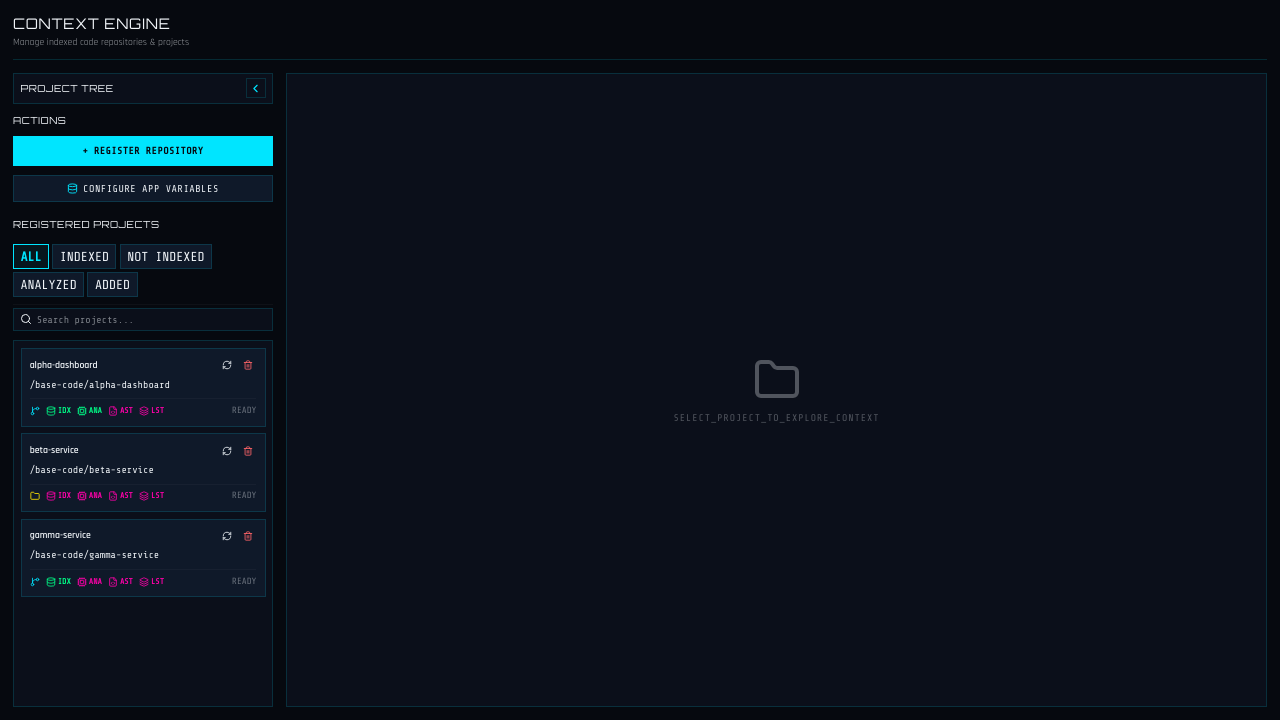
it: ContextView - FileBrowserModal Integration › filters the project tree with multiple status filters (AND logic)
expect the text "alpha-dashboard" is shown: met, box [30,359,98,372]
expect the text "beta-service" is shown: met, box [30,444,79,457]
# Filter by INDEXED (should show alpha and gamma)
Click the button "INDEXED".
click(84, 257)  # box [52,244,116,269]
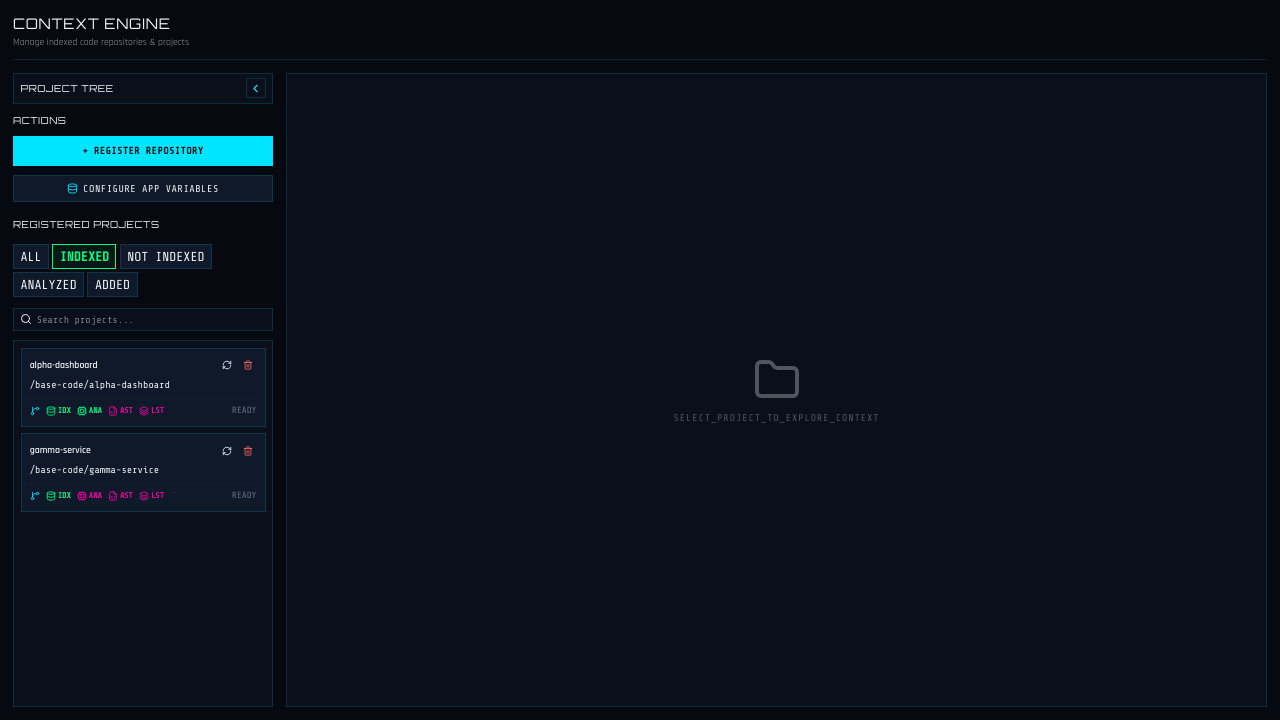
expect the text "alpha-dashboard" is shown: met, box [30,359,98,372]
expect the text "beta-service" is gone: met
# Add ANALYZED filter (should show only alpha-dashboard)
Click the button "ANALYZED".
click(49, 285)  # box [13,272,84,297]
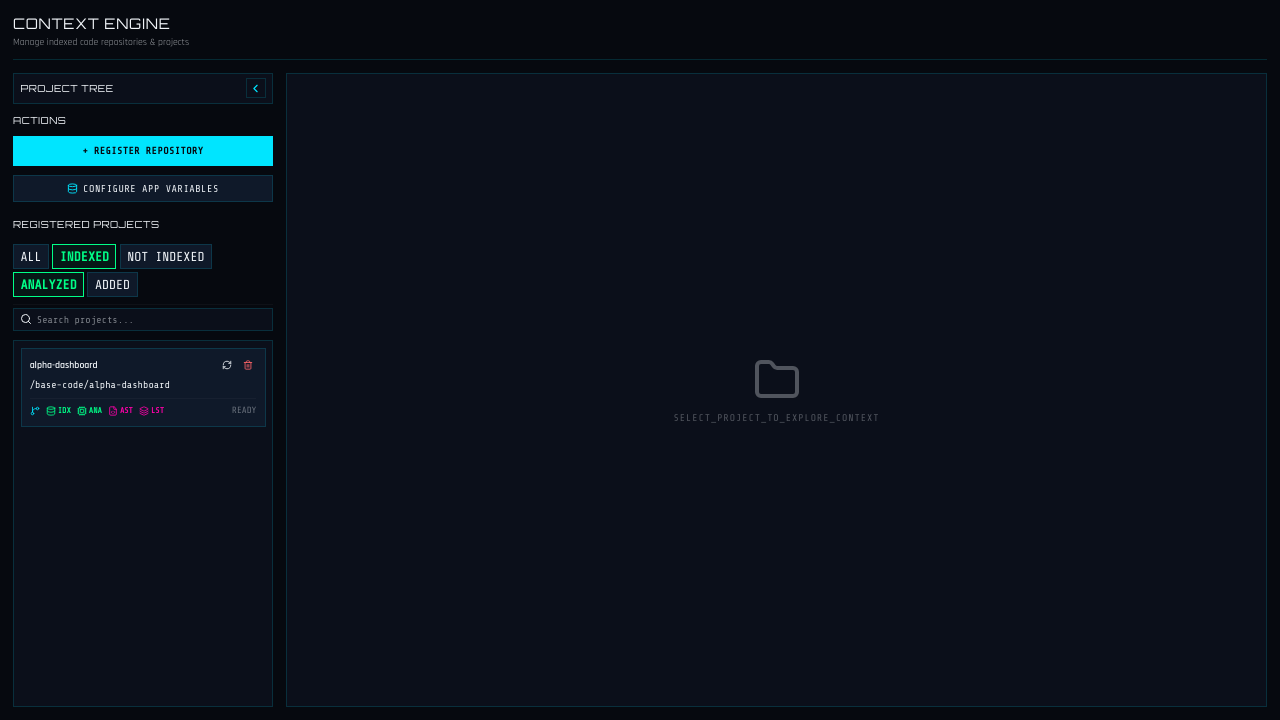
expect the text "alpha-dashboard" is shown: met, box [30,359,98,372]
expect the text "gamma-service" is gone: met
# Clear filters (click ALL)
Click the button "ALL".
click(31, 257)  # box [13,244,49,269]
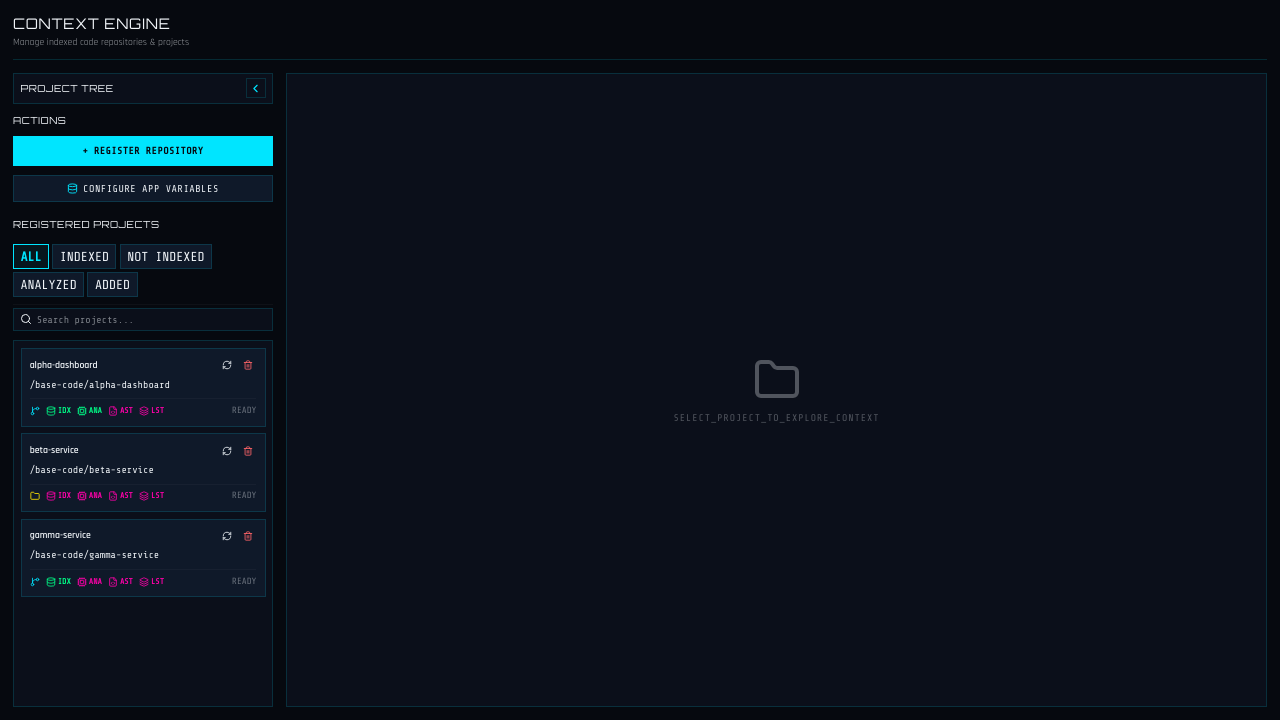
expect the text "alpha-dashboard" is shown: met, box [30,359,98,372]
expect the text "beta-service" is shown: met, box [30,444,79,457]
expect the text "gamma-service" is shown: met, box [30,529,91,542]
# Click ADDED filter (should show beta-service only)
Click the button "ADDED".
click(112, 285)  # box [87,272,138,297]
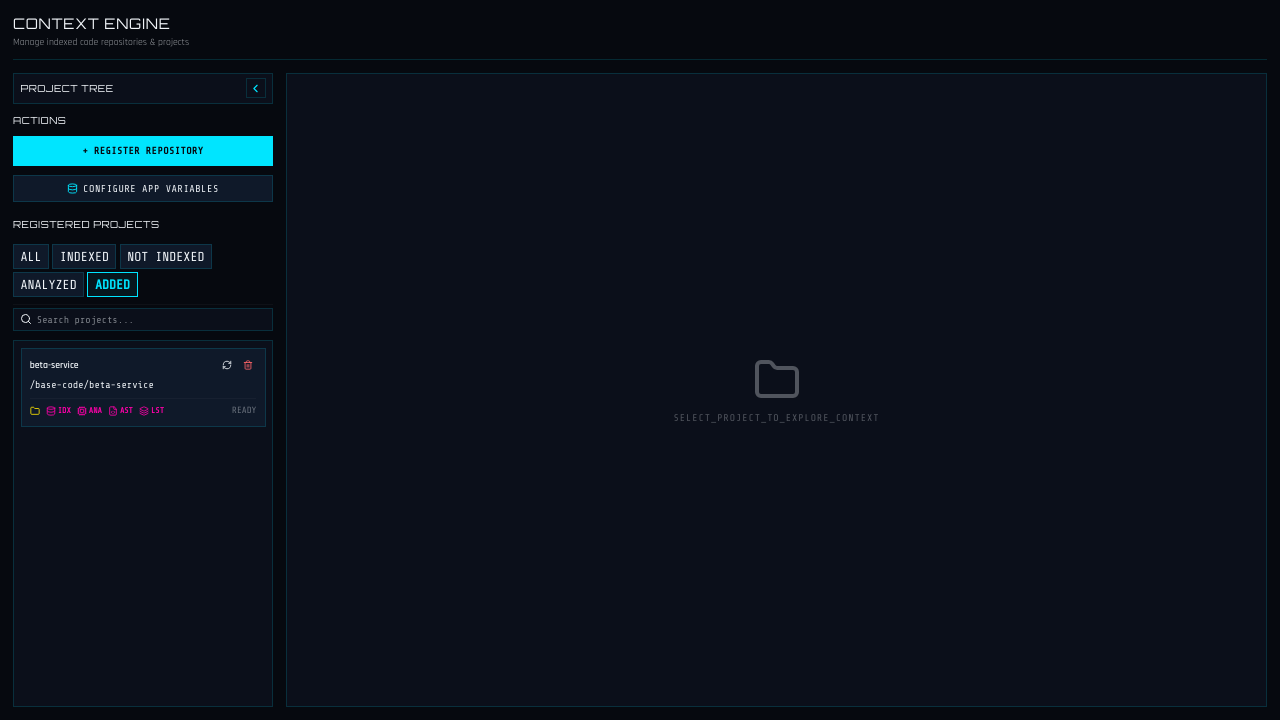
expect the text "beta-service" is shown: met, box [30,359,79,372]
expect the text "alpha-dashboard" is gone: met
expect the text "gamma-service" is gone: met
